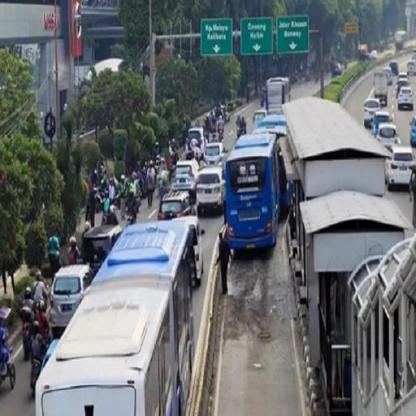bus: (32, 216, 201, 415), (223, 135, 285, 254), (267, 78, 290, 117), (398, 88, 413, 112), (406, 60, 415, 77)
car: (48, 267, 91, 334), (78, 222, 124, 272), (195, 168, 225, 216), (384, 148, 416, 192), (173, 162, 197, 200), (156, 195, 187, 221), (184, 128, 206, 162), (376, 124, 400, 146), (364, 98, 381, 127)
